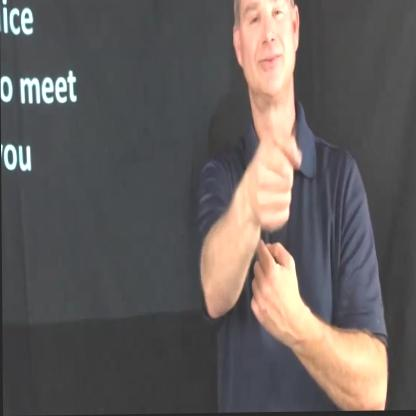NiceToMeetYou: (233, 83, 305, 372)
